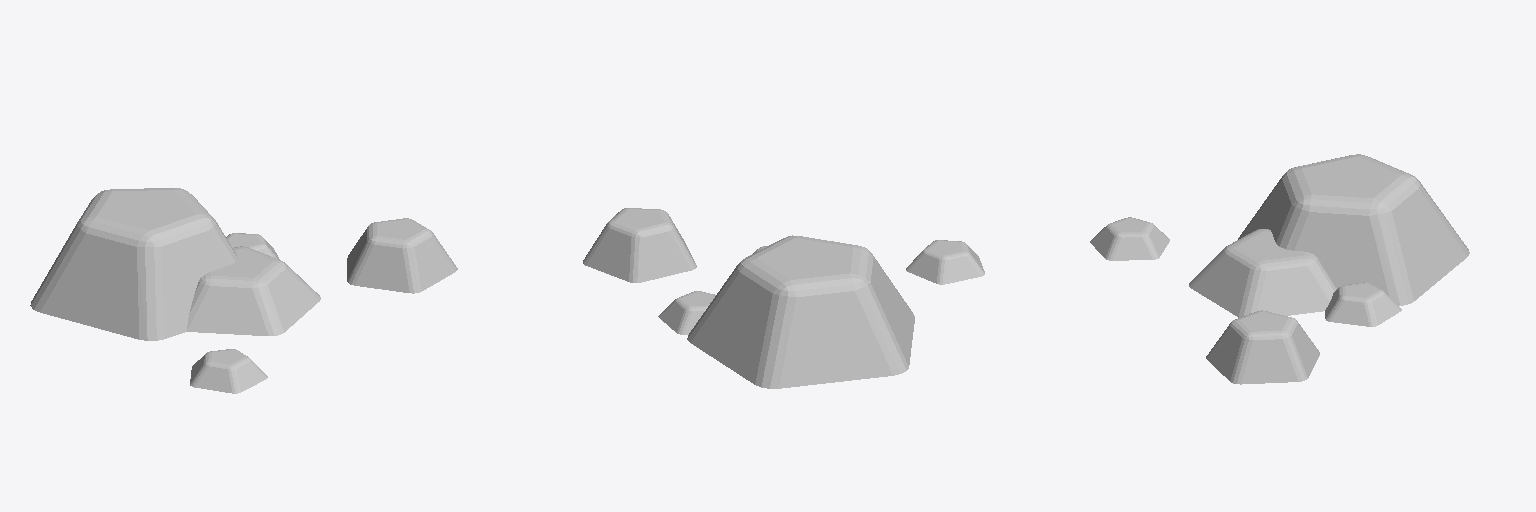
Rendered from rocksA_forest.obj.
The picture shows the model from 3 angles: view 1: azimuth 30°, elevation 25°; view 2: azimuth 150°, elevation 25°; view 3: azimuth 270°, elevation 25°; orthographic projection.
Visible parts, largest first — view 1: rocksA_forest:Mesh; view 2: rocksA_forest:Mesh; view 3: rocksA_forest:Mesh.
Boxes of the visible parts, box(x1,y1,x2,y2) form: rocksA_forest:Mesh: box(30, 188, 457, 393); rocksA_forest:Mesh: box(583, 208, 984, 388); rocksA_forest:Mesh: box(1090, 154, 1469, 384).
Bounding box in the file's own units: 1.63 × 0.35 × 1.49.